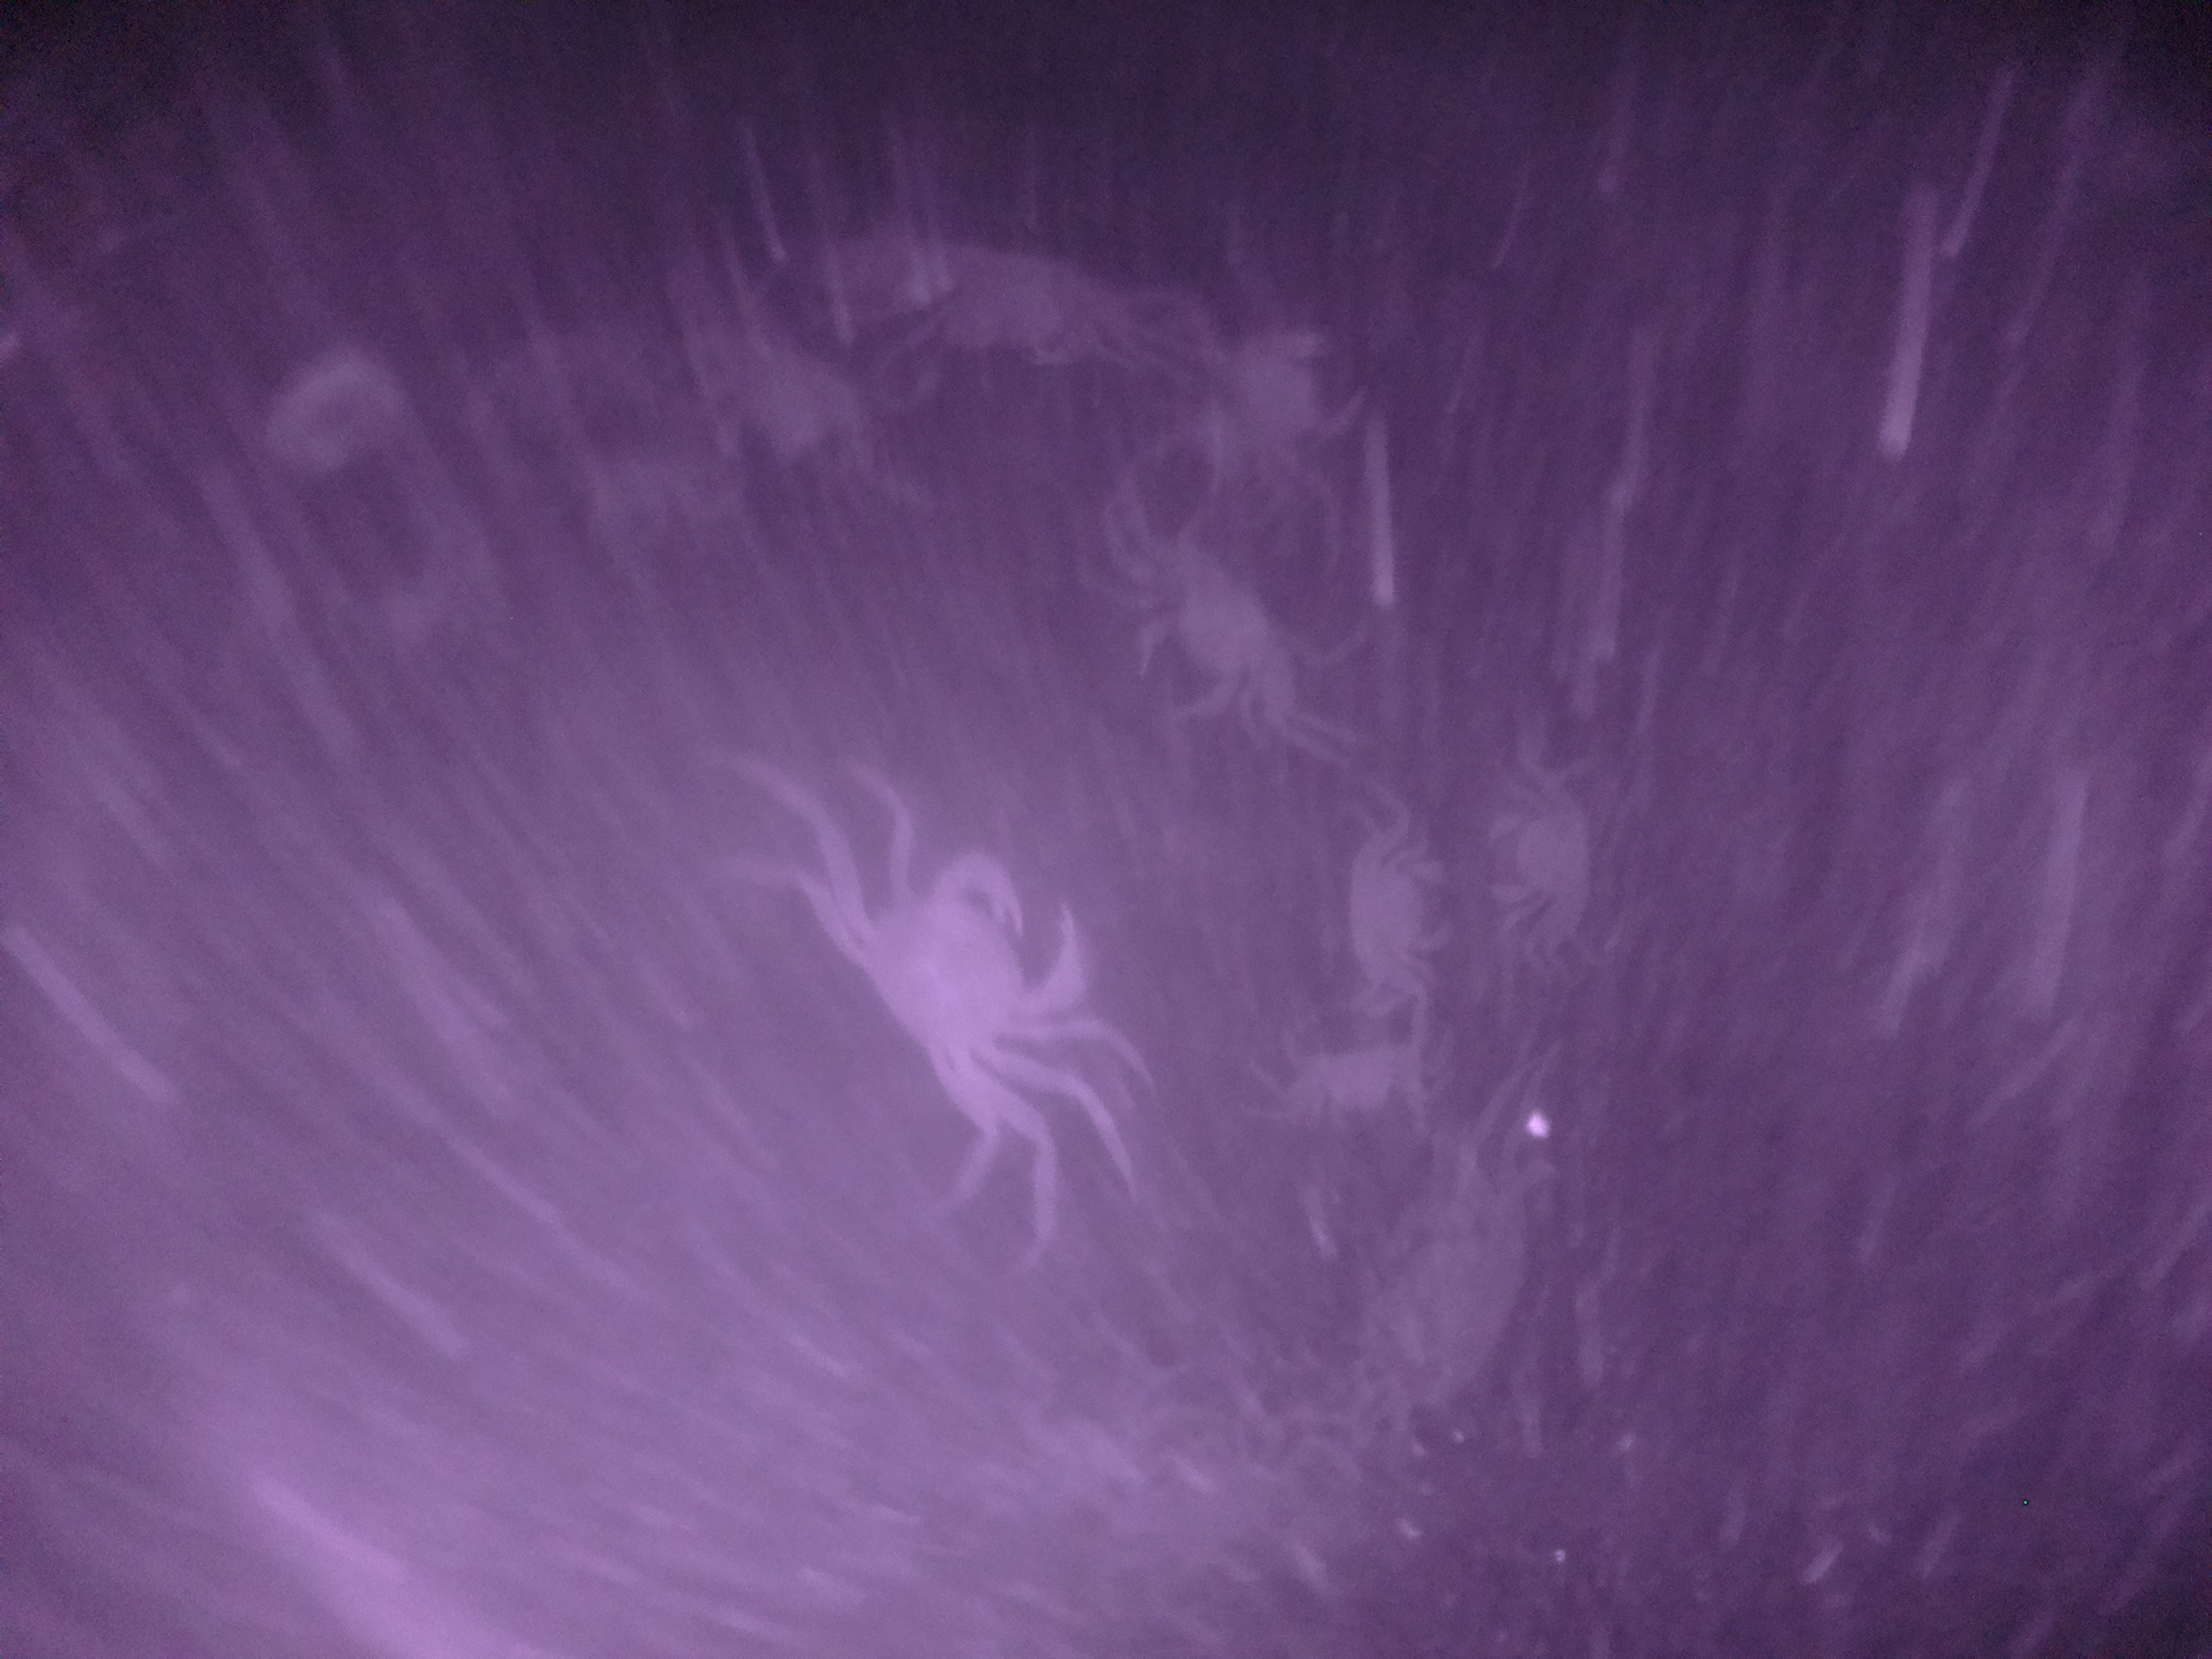Crab: (834, 847, 1092, 1145), (1120, 544, 1299, 720), (1486, 749, 1613, 955), (1334, 814, 1458, 1006), (1278, 1016, 1453, 1143)
